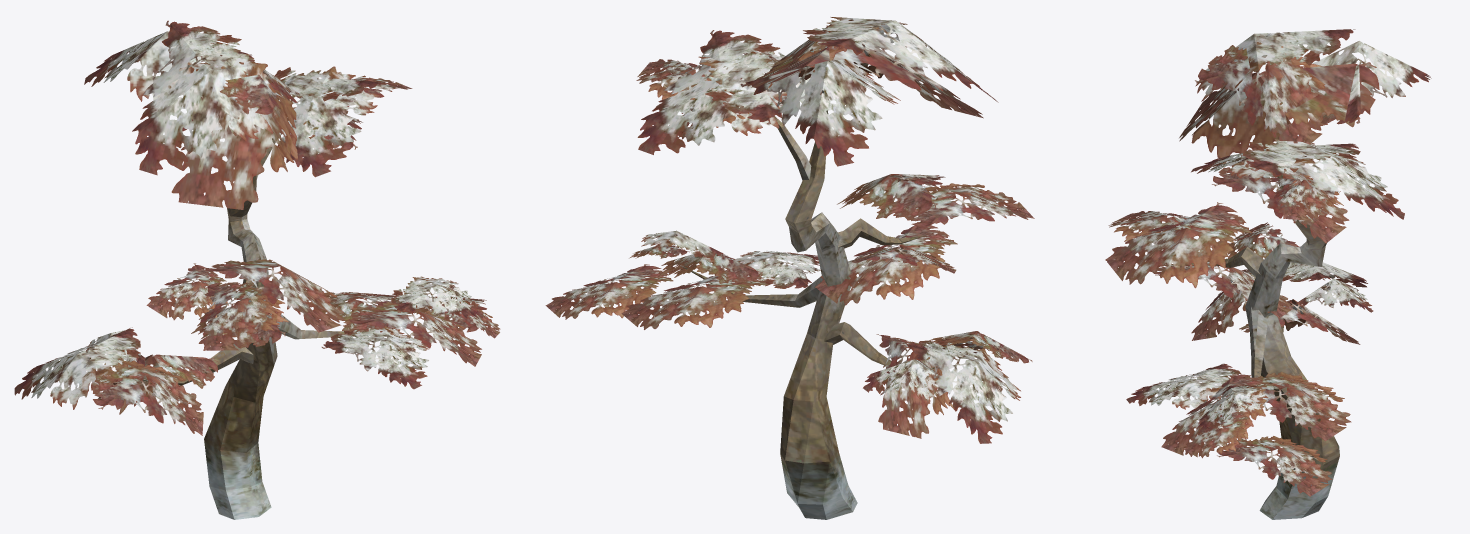
The model's file is environment_Tree_xue_001_a.FBX.
The picture shows the model from 3 angles, left to right: view 1: azimuth 30°, elevation 25°; view 2: azimuth 150°, elevation 25°; view 3: azimuth 270°, elevation 25°; orthographic projection. The views are drawn at different scales.
Parts seen in each view (by area): view 1: environment_Tree_xue_001_a, environment_Tree_xue_001_b; view 2: environment_Tree_xue_001_a, environment_Tree_xue_001_b; view 3: environment_Tree_xue_001_a, environment_Tree_xue_001_b.
Boxes of the visible parts, x1,y1,x2,y2 form: environment_Tree_xue_001_a: (14,20,500,435); environment_Tree_xue_001_b: (143,131,369,519); environment_Tree_xue_001_a: (545,17,1034,443); environment_Tree_xue_001_b: (679,90,937,519); environment_Tree_xue_001_a: (1105,29,1431,496); environment_Tree_xue_001_b: (1216,137,1339,519).
Size of the model in its own units: 287 by 265 by 193.
1 material, 1 textured.
